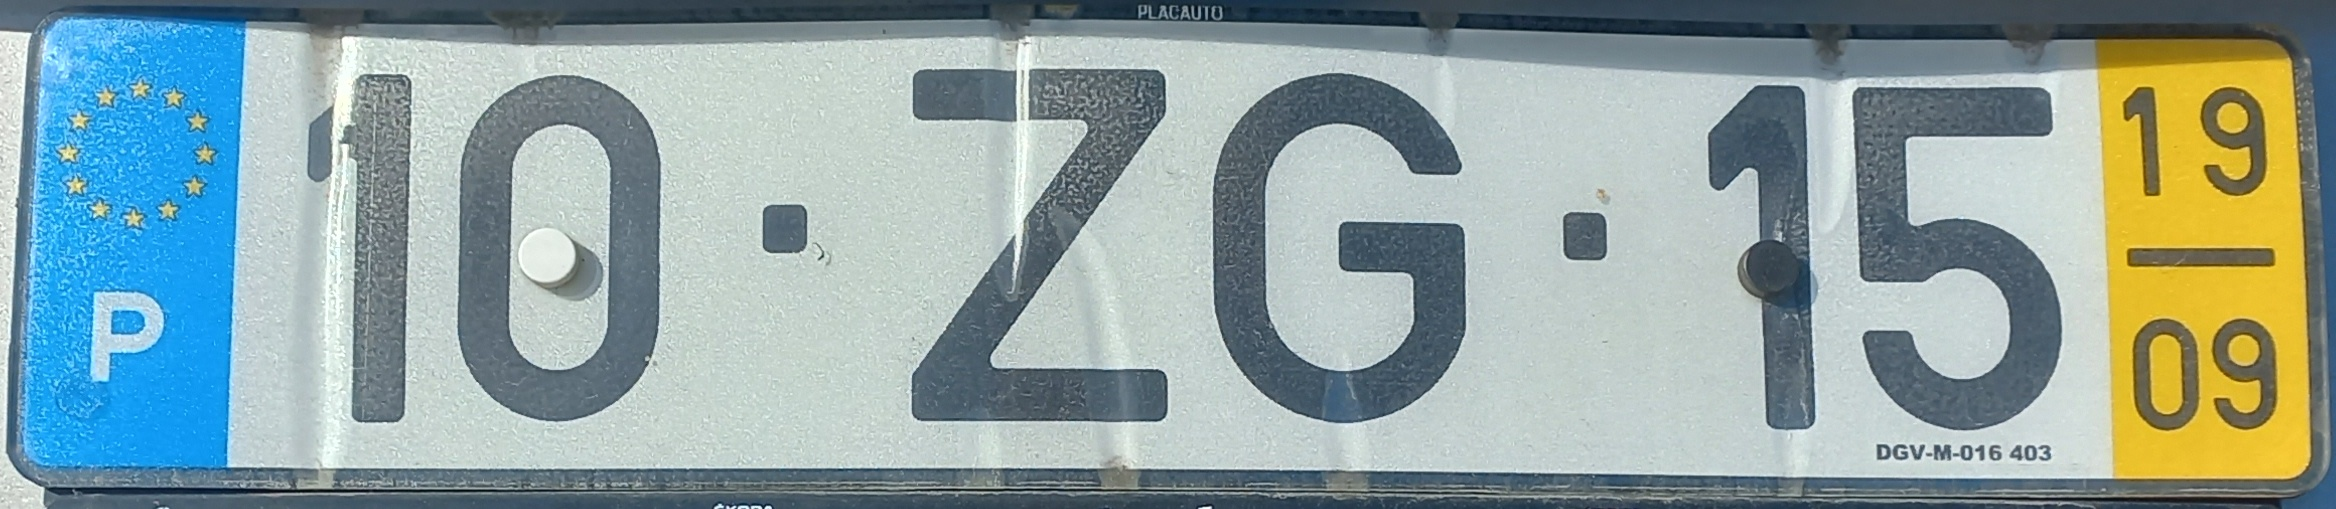0: (445, 65, 667, 438)
1: (298, 67, 420, 430), (1700, 74, 1821, 436)
5: (1844, 77, 2069, 439)
G: (1202, 61, 1473, 432)
Z: (906, 64, 1171, 427)
